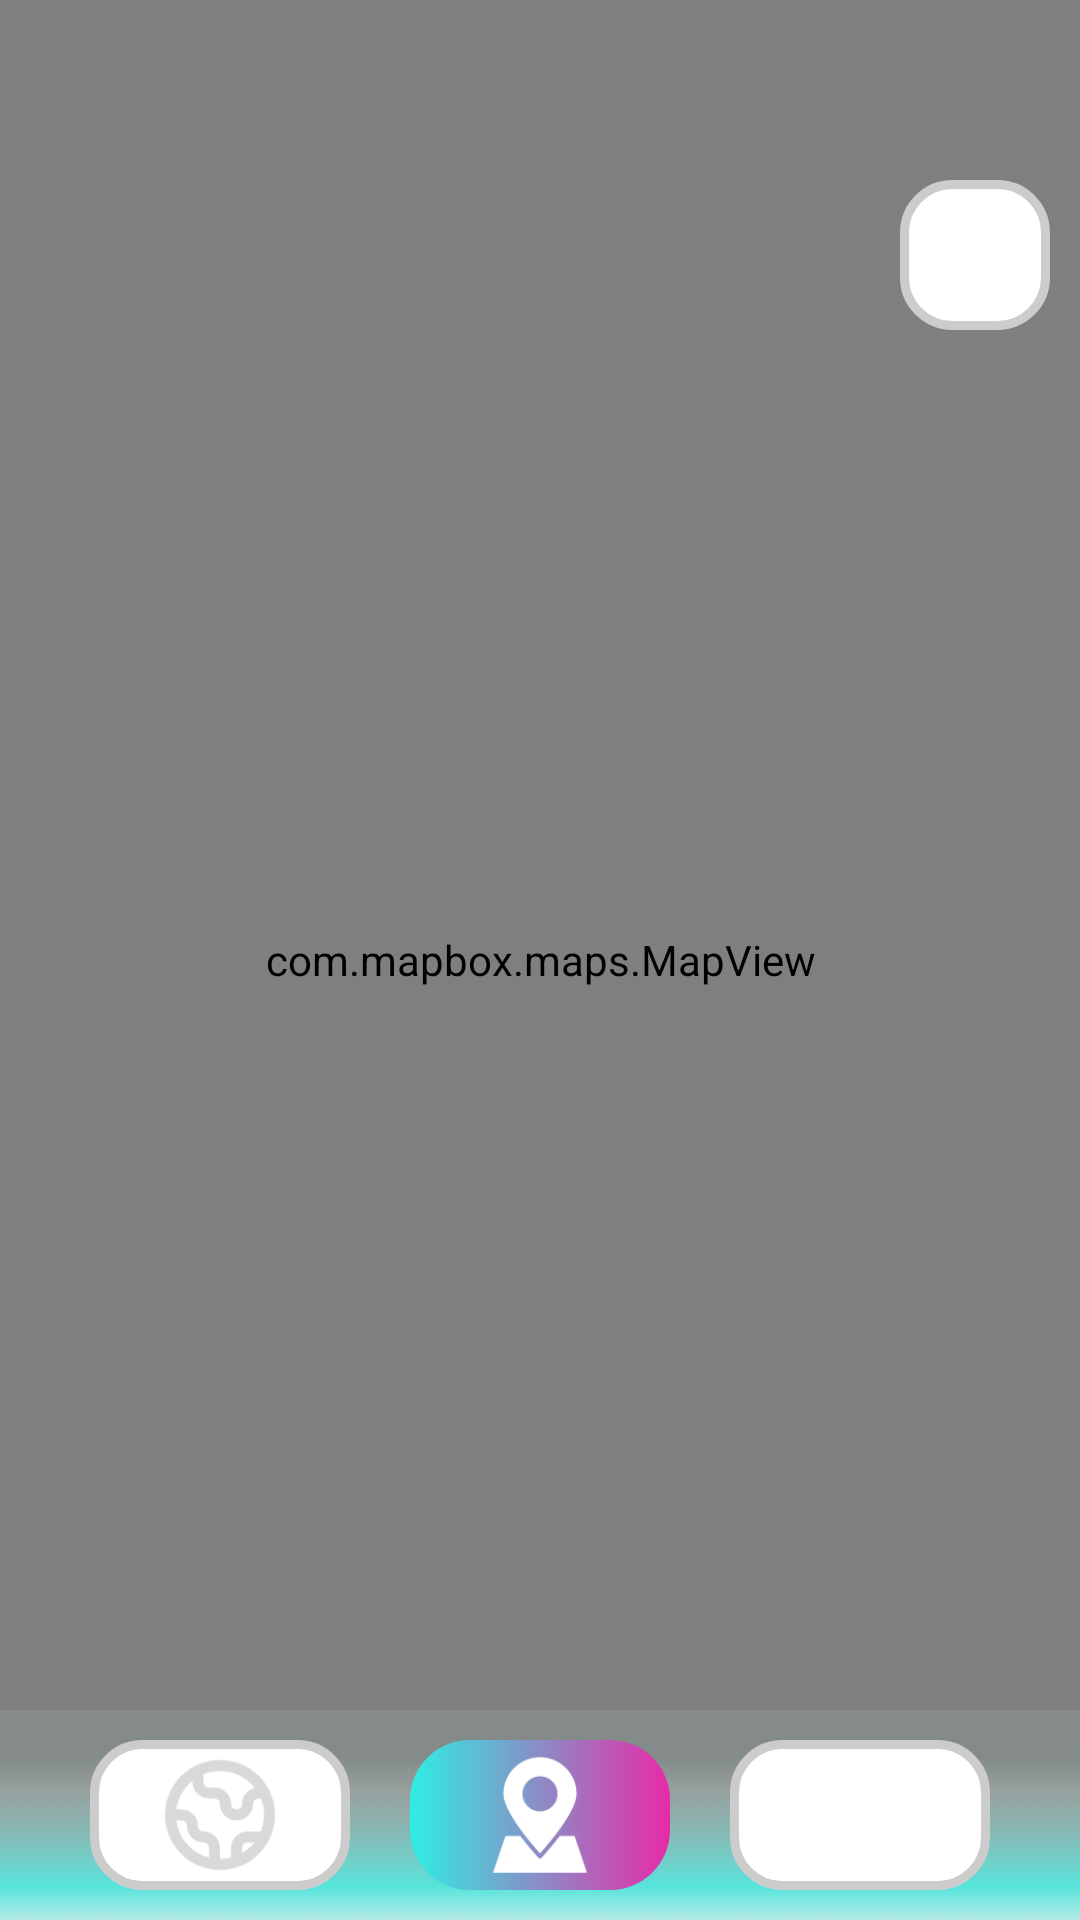

Icons on this 1080x1920 Android screen, each with the point to tap as [x,y]:
location tomain: [540,1815]
